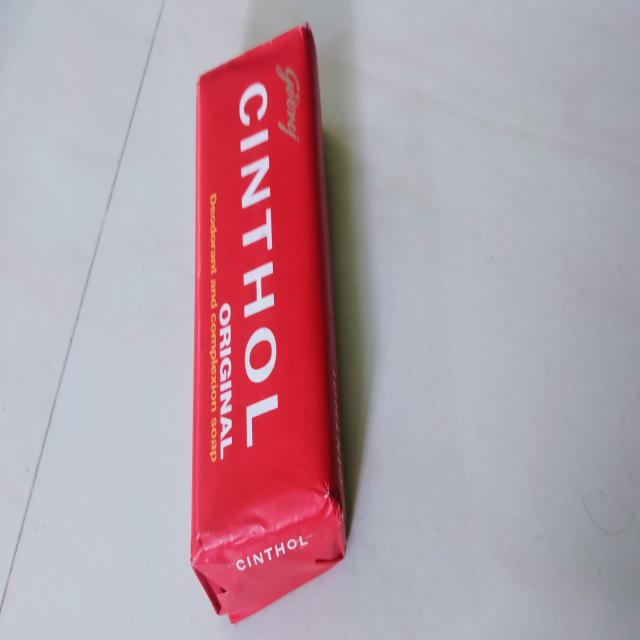soap: (187, 19, 352, 593)
